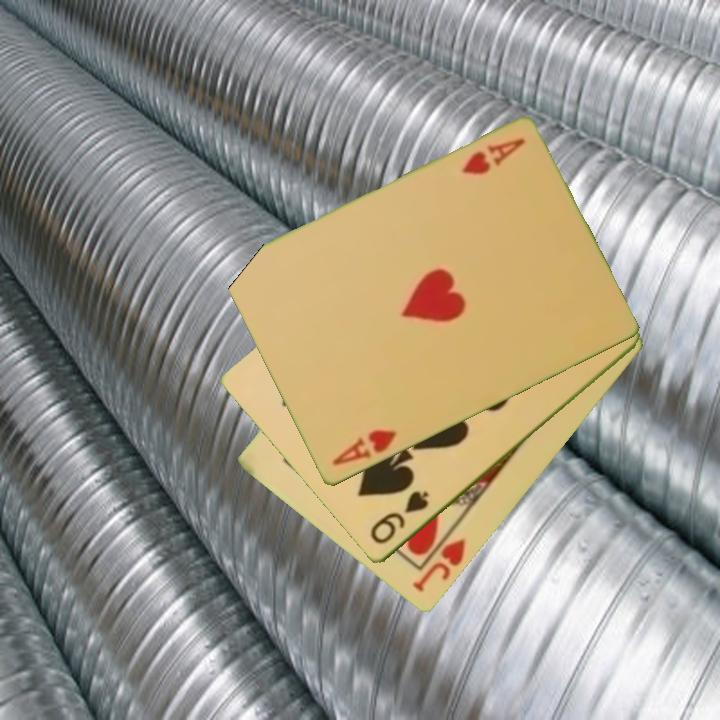9s: (366, 487, 432, 548)
Ah: (328, 426, 400, 469), (458, 135, 528, 179)
Jh: (409, 535, 470, 596)
